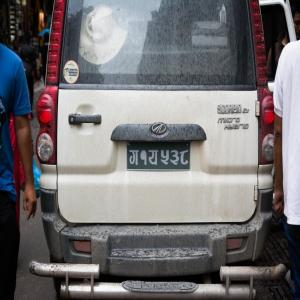Vehicle-registration-plate: (123, 134, 195, 179)
